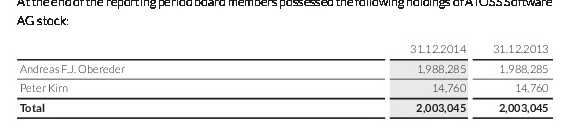table: (0, 0, 569, 129)
